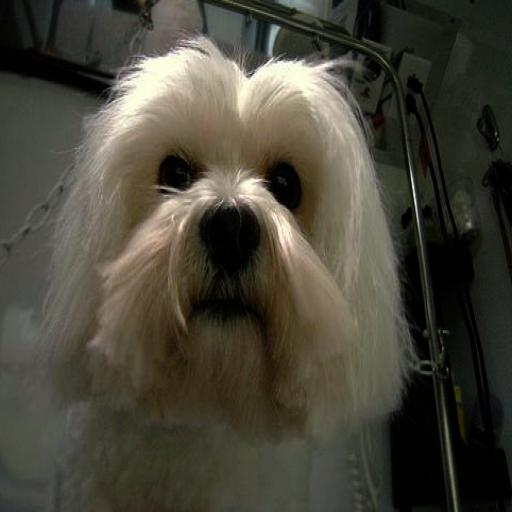dog_face: (68, 43, 400, 432)
